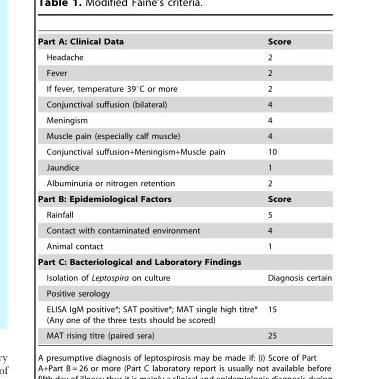table: (37, 36, 331, 339)
table column: (37, 36, 261, 339), (261, 36, 331, 339)
table projected row header: (37, 253, 331, 269), (37, 285, 331, 301)
table row: (37, 301, 331, 327), (37, 142, 331, 159), (37, 64, 331, 80), (37, 80, 331, 96), (37, 96, 331, 112), (37, 159, 331, 175), (37, 190, 331, 206), (37, 206, 331, 222), (37, 222, 331, 238), (37, 253, 331, 269), (37, 269, 331, 285), (37, 285, 331, 301), (37, 49, 331, 64), (37, 112, 331, 127), (37, 127, 331, 142), (37, 175, 331, 190), (37, 238, 331, 253), (37, 36, 331, 49), (37, 327, 331, 339)
